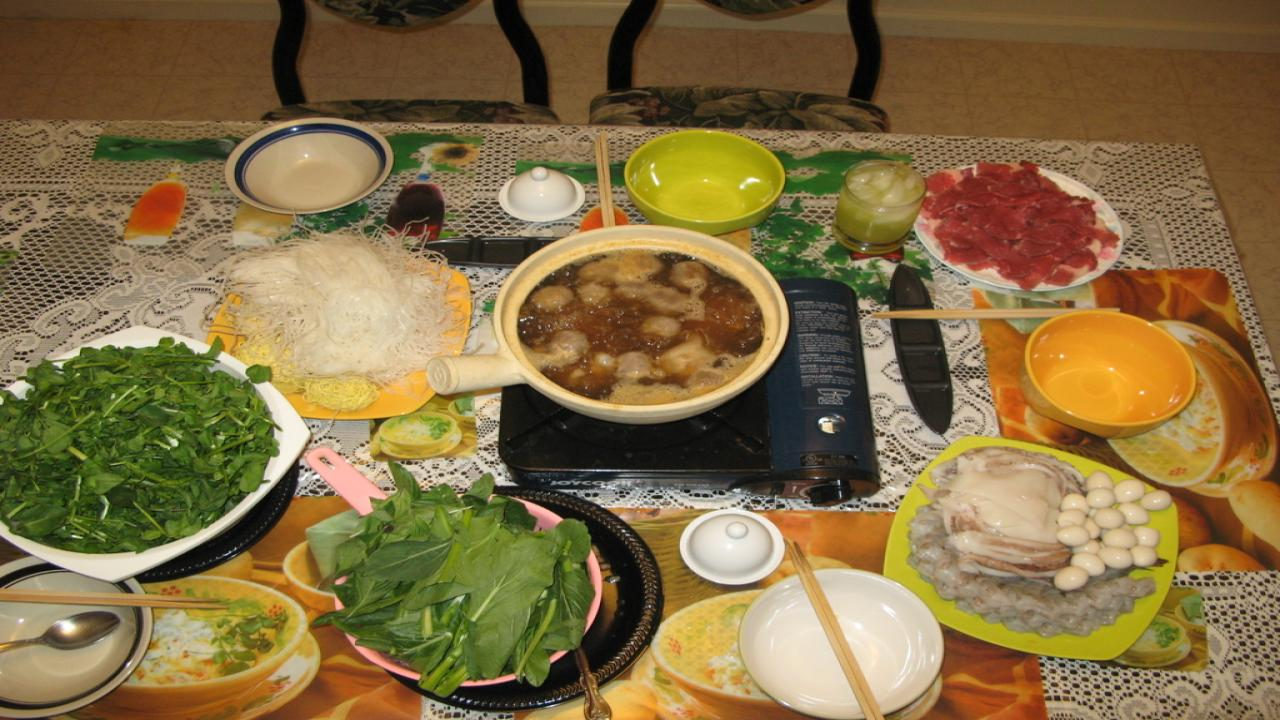chopstick: (786, 544, 892, 720), (0, 586, 218, 612), (589, 132, 619, 227), (872, 308, 1124, 318)
